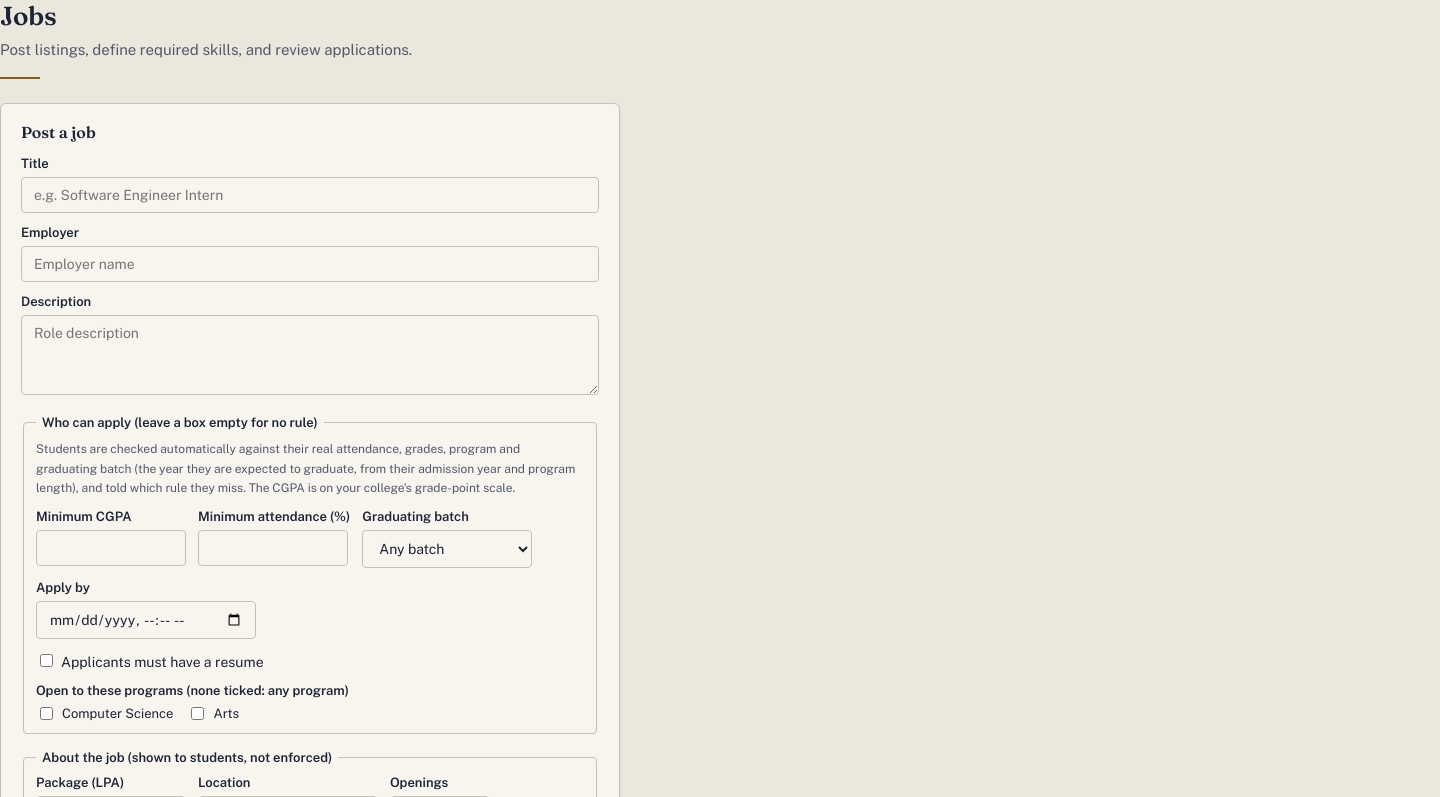
Scenario: the officer's form for a job › shows the server's reason, as an alert, when it refuses the terms
Type "Intern" into the field labelled "Title" at coordinates (310, 195), box 21,177 -> 599,213
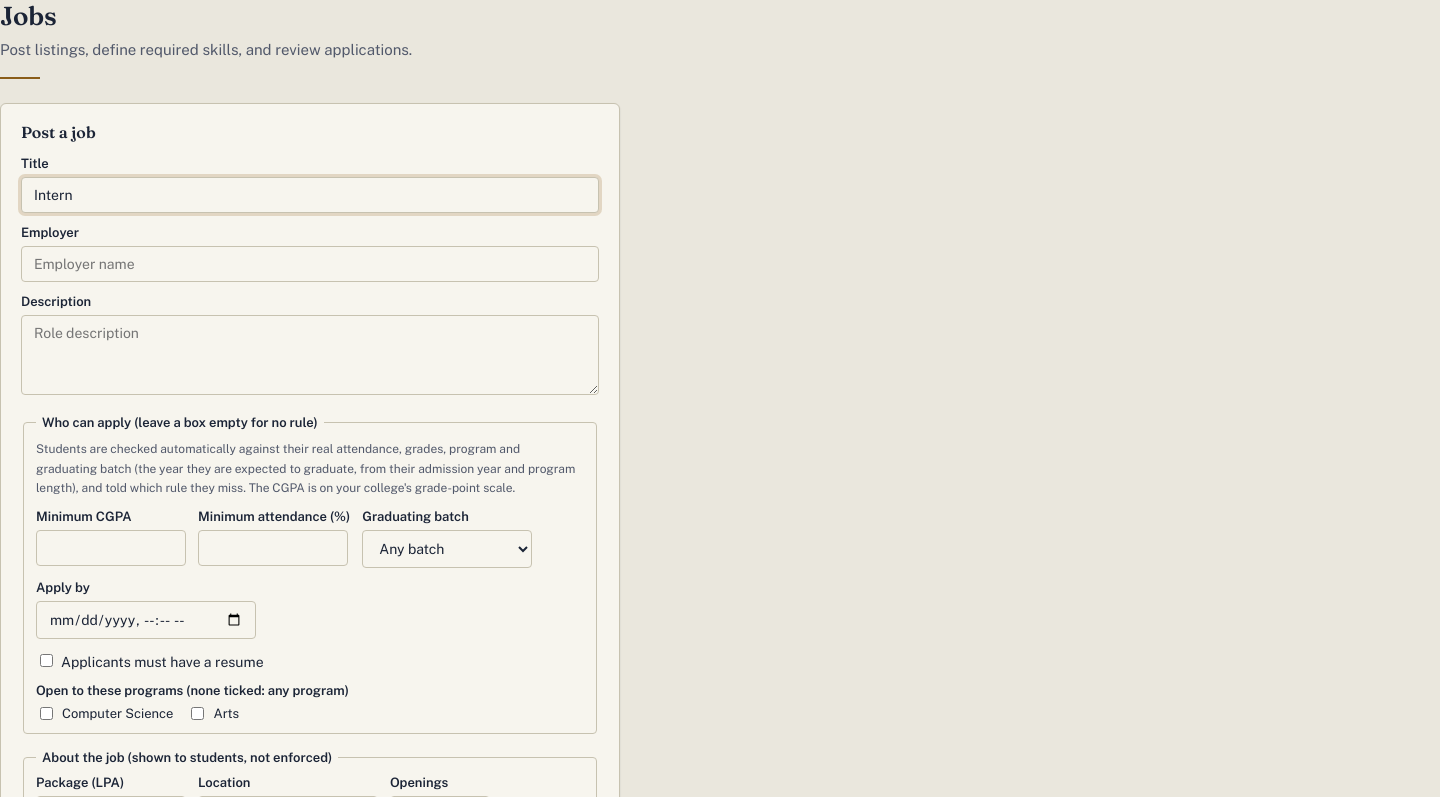
Type "Initech" into the field labelled "Employer" at coordinates (310, 264), box 21,246 -> 599,282
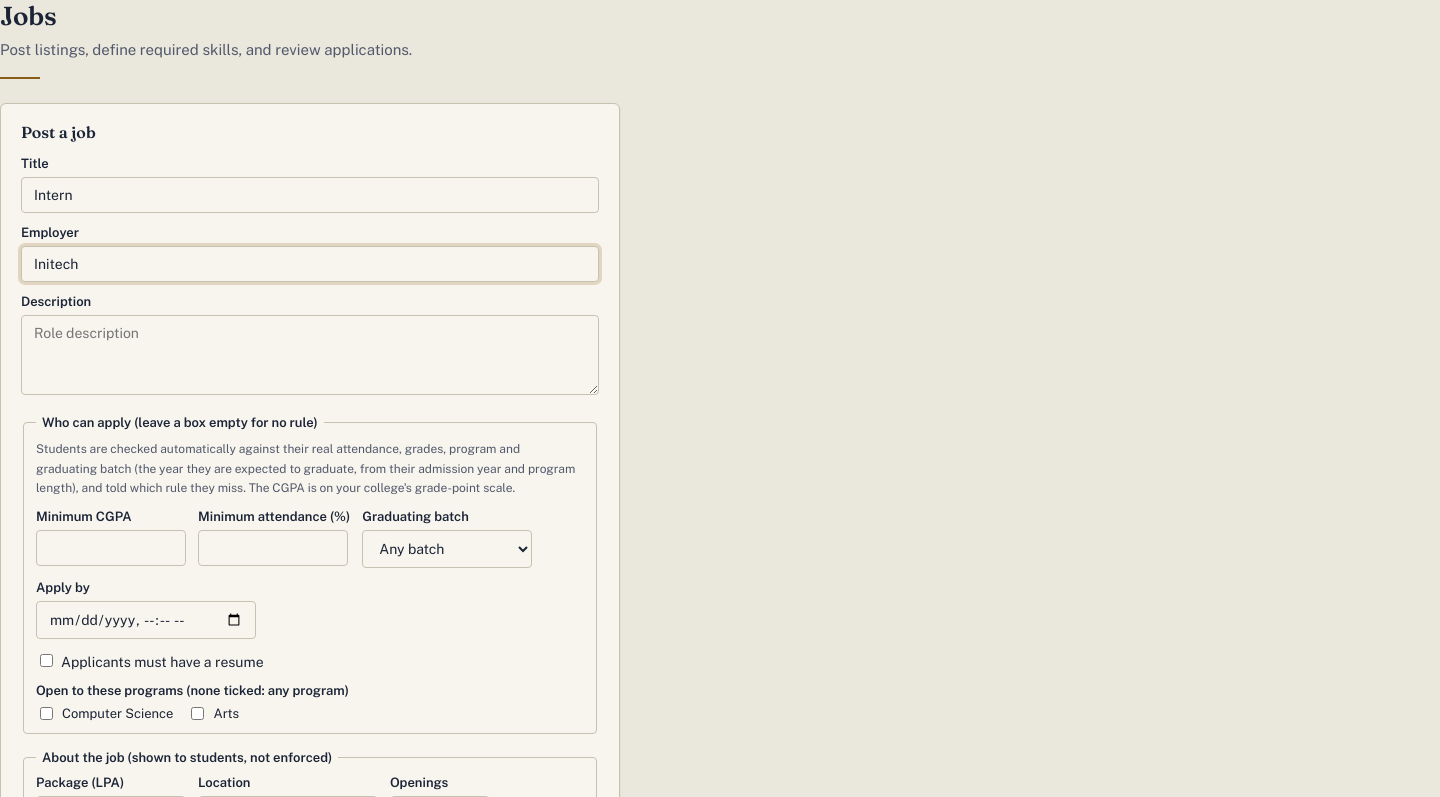
Type "Learn" into the text box labelled "Description" at coordinates (310, 355), box 21,315 -> 599,395
(page scrolled)
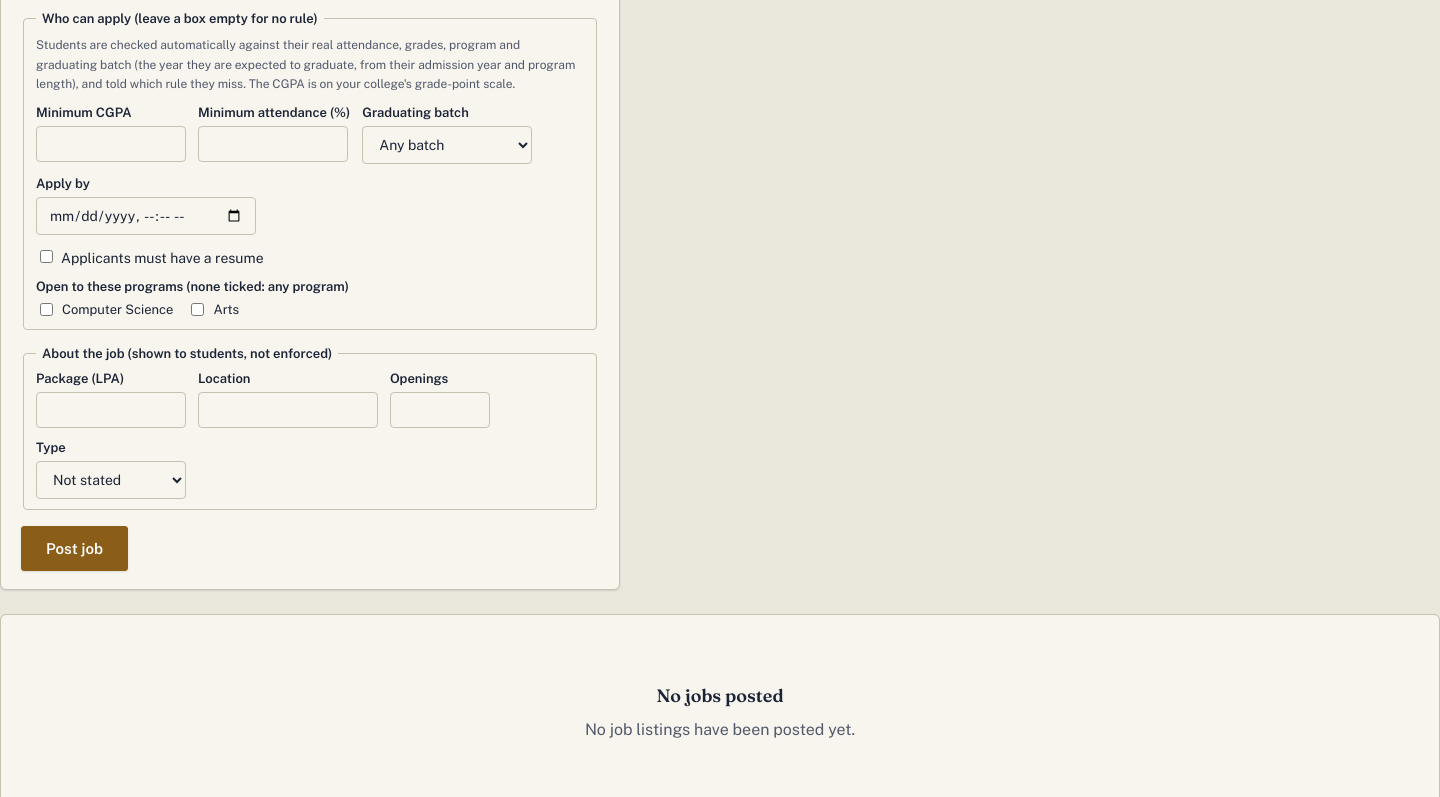
Click the button "Post job" at coordinates (74, 549), box 21,526 -> 128,571
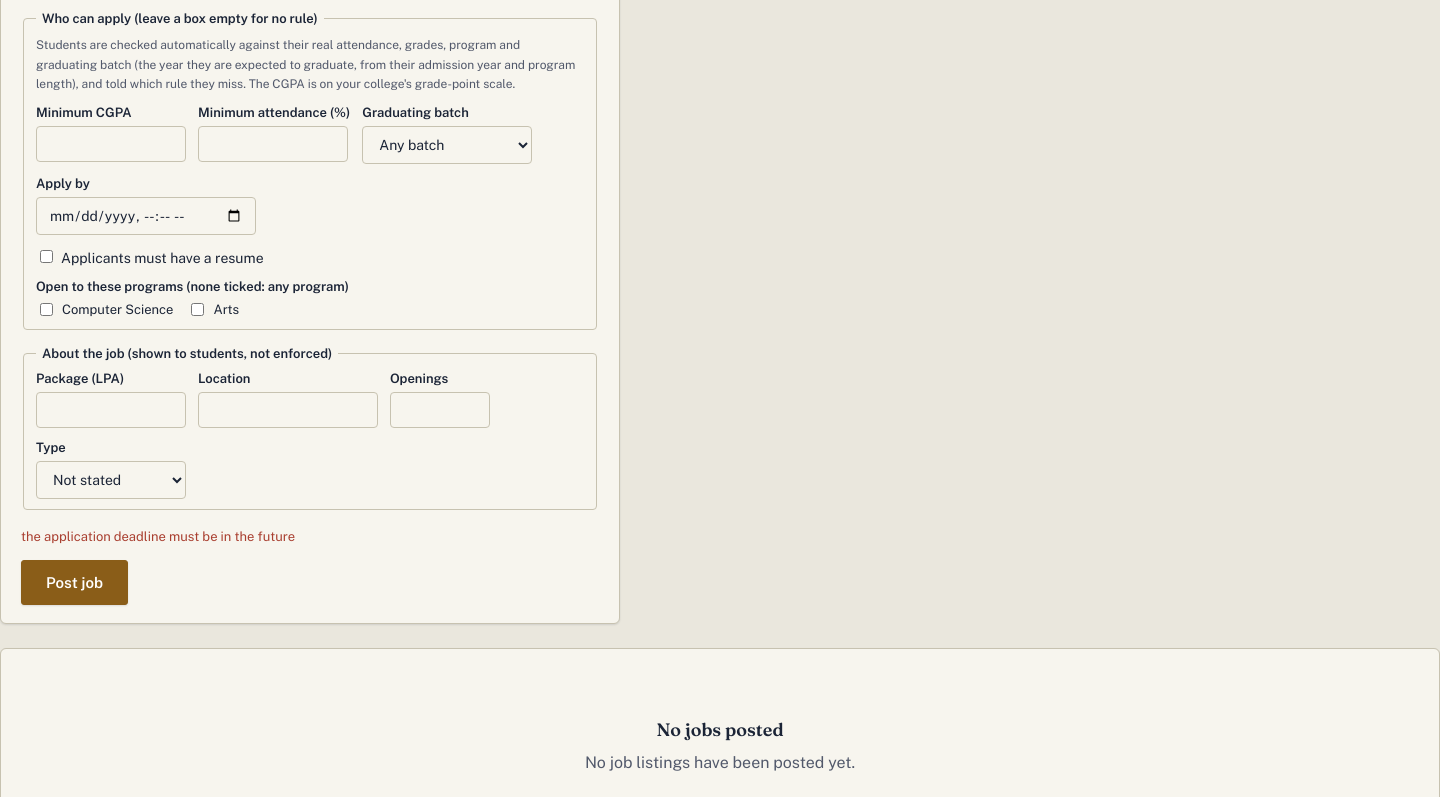
expect the message "the application deadline must be in the future" is shown: met, box 21,529 -> 295,544
